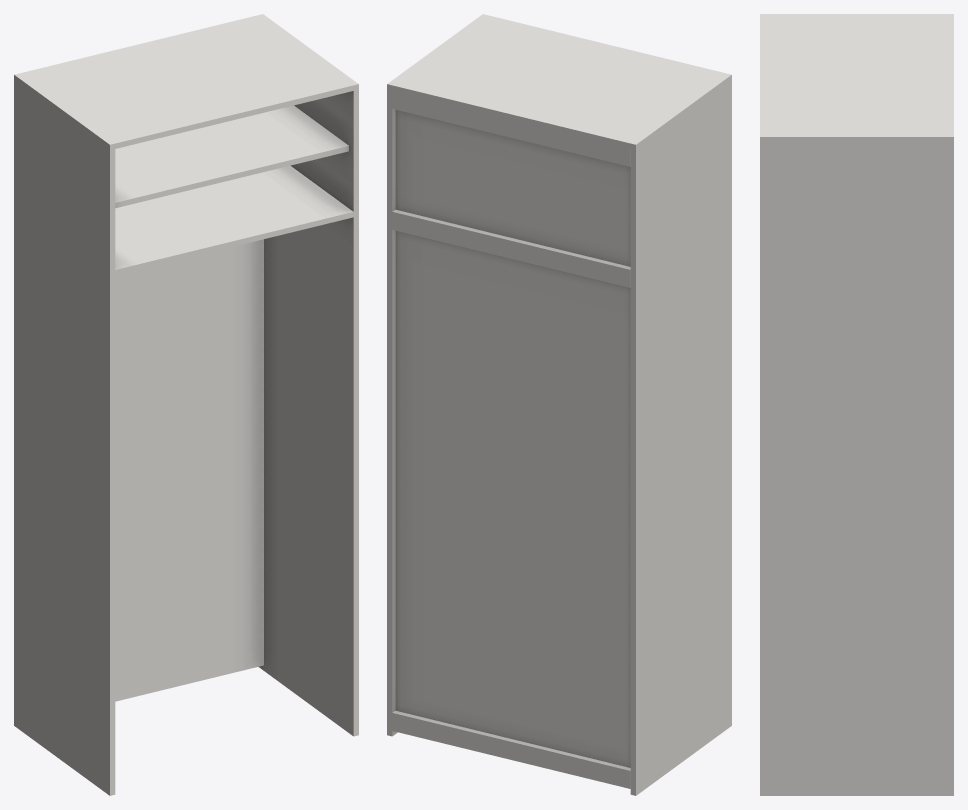
The model's file is tall-fridge-doors-off.glb.
3 renders of one model, left to right at view 1: azimuth 30°, elevation 25°; view 2: azimuth 150°, elevation 25°; view 3: azimuth 270°, elevation 25°, orthographic.
Parts seen in each view (by area): view 1: part_0; view 2: part_0; view 3: part_0.
Part boxes in pixels (<box>): part_0: <box>14,14,358,795</box>; part_0: <box>387,14,731,795</box>; part_0: <box>760,14,953,795</box>.
Size of the model in its own units: 0.9144 by 2.29 by 0.6096.
Materials: 1 (1 with a texture image).
